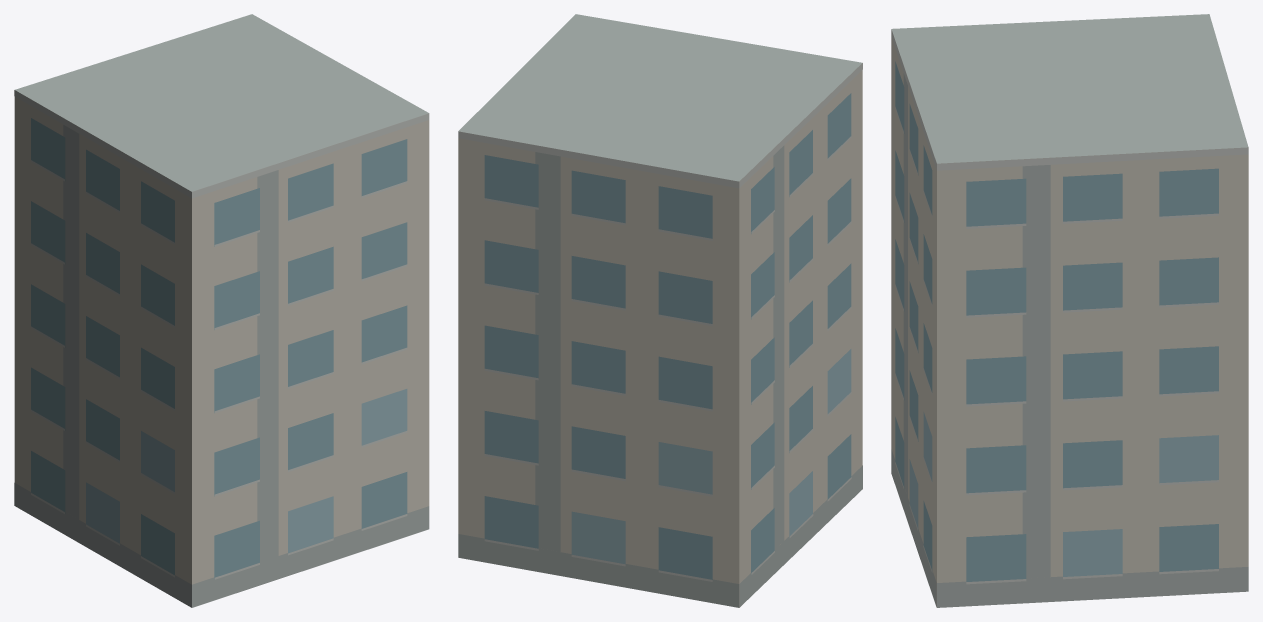
The model's file is survey-upis-32734603.glb.
3 views of the same model, side by side, from view 1: azimuth 30°, elevation 25°; view 2: azimuth 150°, elevation 25°; view 3: azimuth 270°, elevation 25° (orthographic). The views are drawn at different scales.
Visible parts, largest first — view 1: survey-upis-32734603.tmp; view 2: survey-upis-32734603.tmp; view 3: survey-upis-32734603.tmp.
Part boxes in pixels (x1,y1,x2,y2): survey-upis-32734603.tmp: (14,14,429,607); survey-upis-32734603.tmp: (458,14,862,607); survey-upis-32734603.tmp: (891,14,1248,607).
Size of the model in its own units: 11.03 by 15.25 by 11.13.
